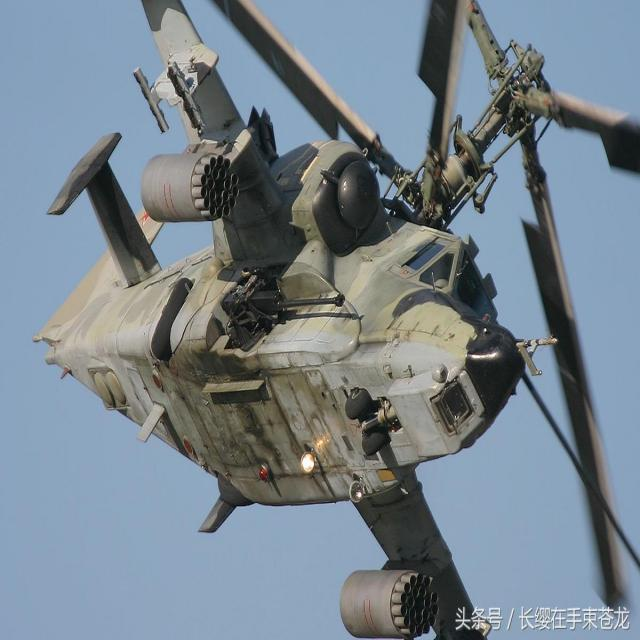MIL_HELO: (26, 0, 640, 640)
